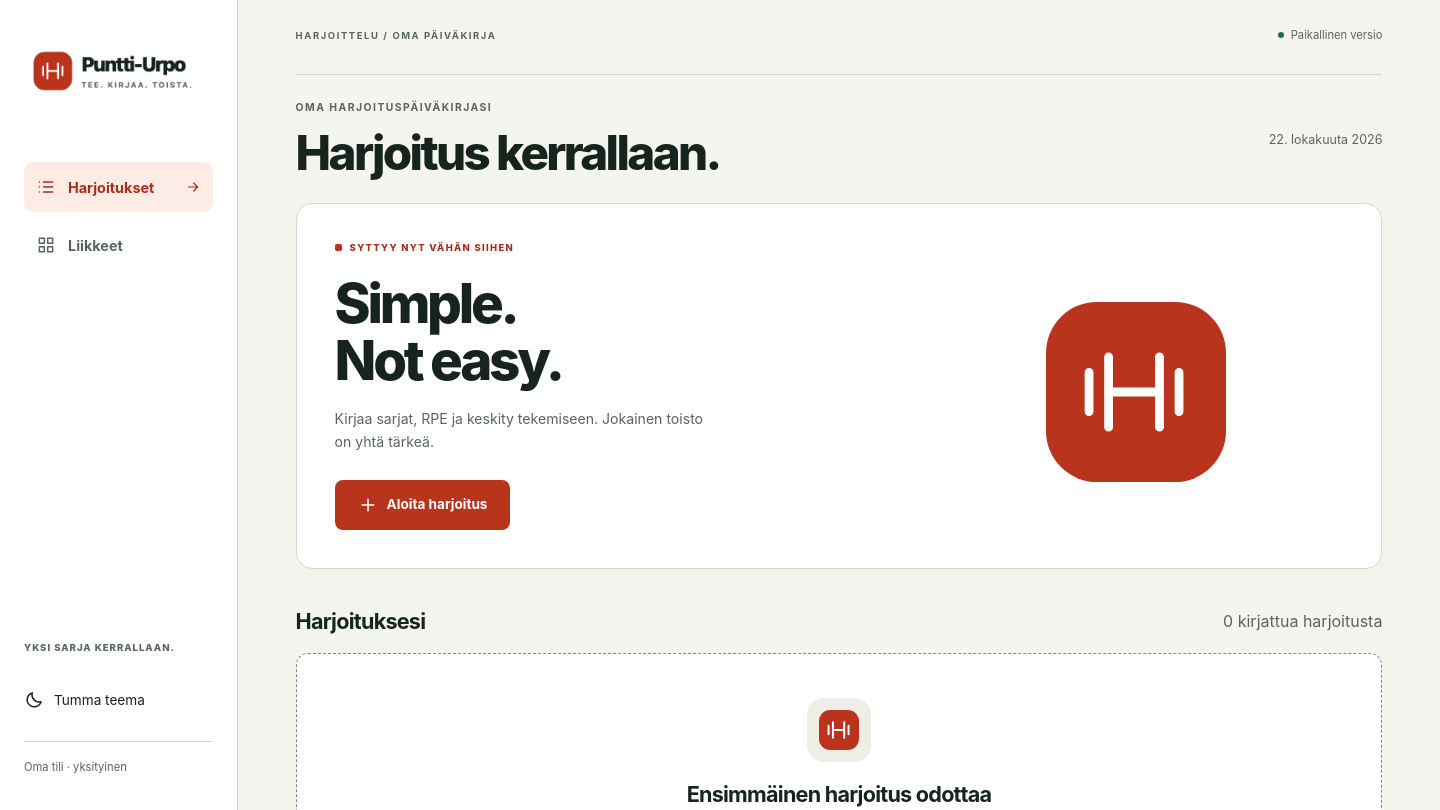
it: starts a named workout without an erroneous discard prompt after saving
Check: the heading "Ensimmäinen harjoitus odottaa" is shown, box [687, 781, 991, 807]
Click the button "Aloita harjoitus". click: click(423, 505)
box: [335, 480, 510, 530]
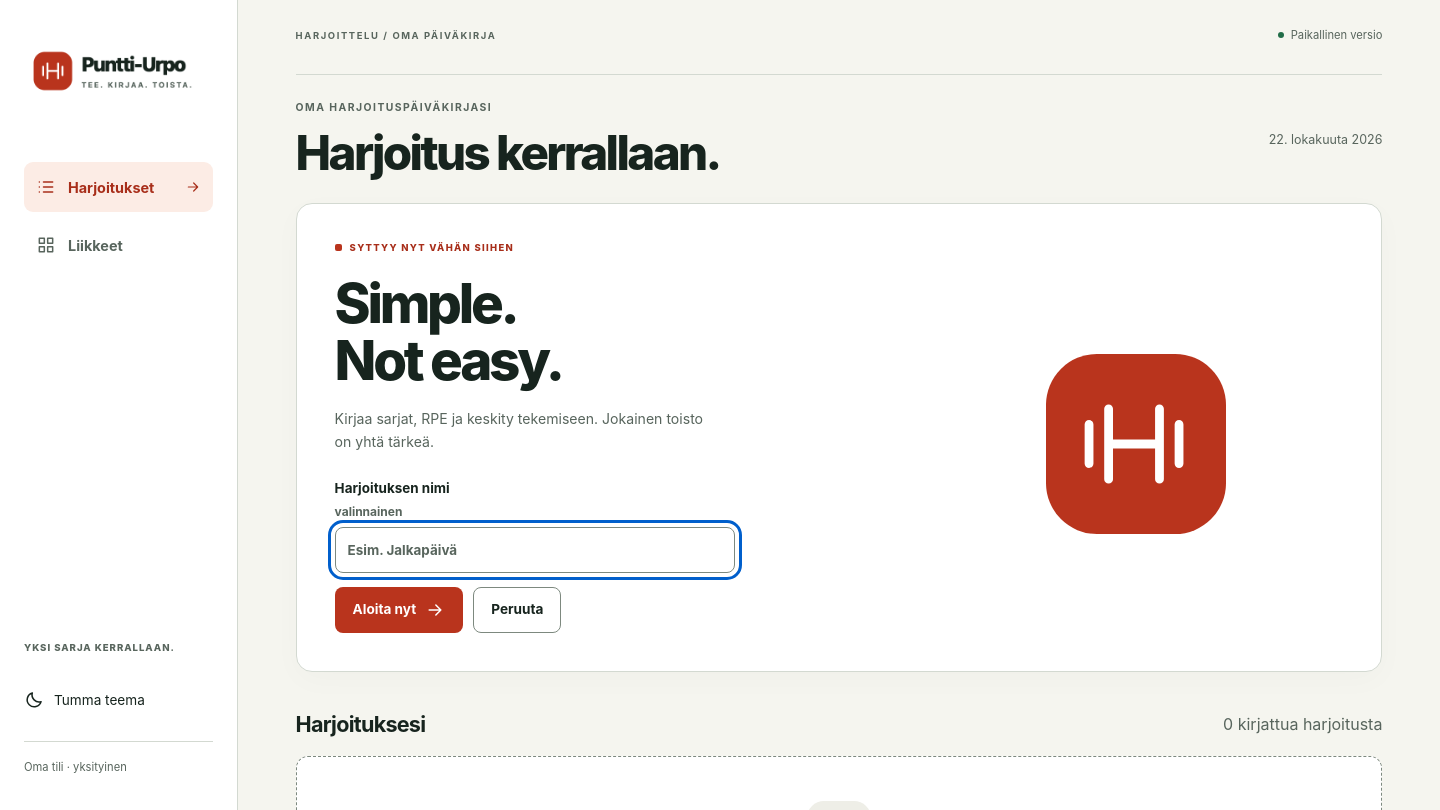
Type "Jalkapäivä" into the field labelled "Harjoituksen nimi valinnainen". click: (535, 550)
box: [335, 527, 735, 573]
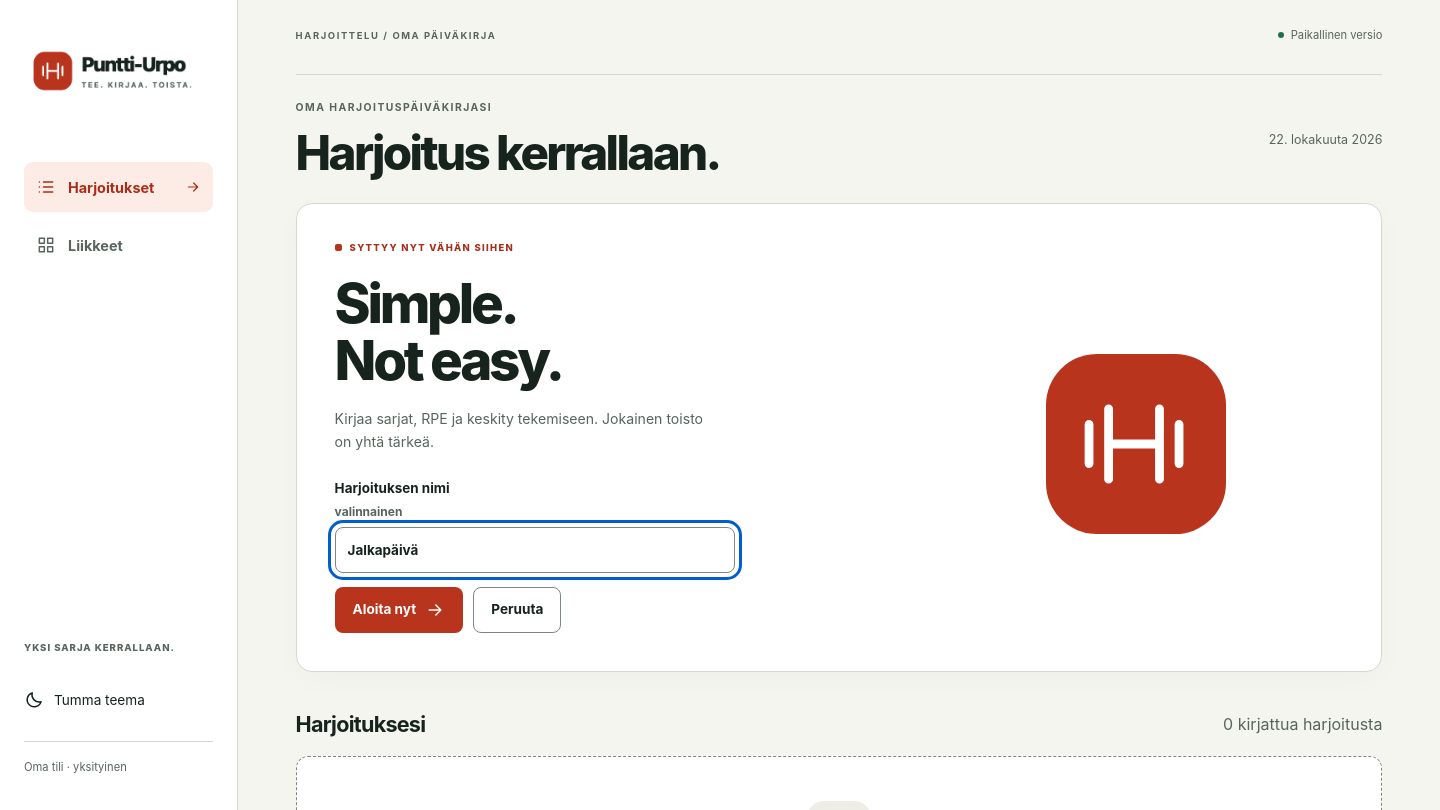
Click the button "Aloita nyt". click: click(399, 610)
box: [335, 587, 463, 633]
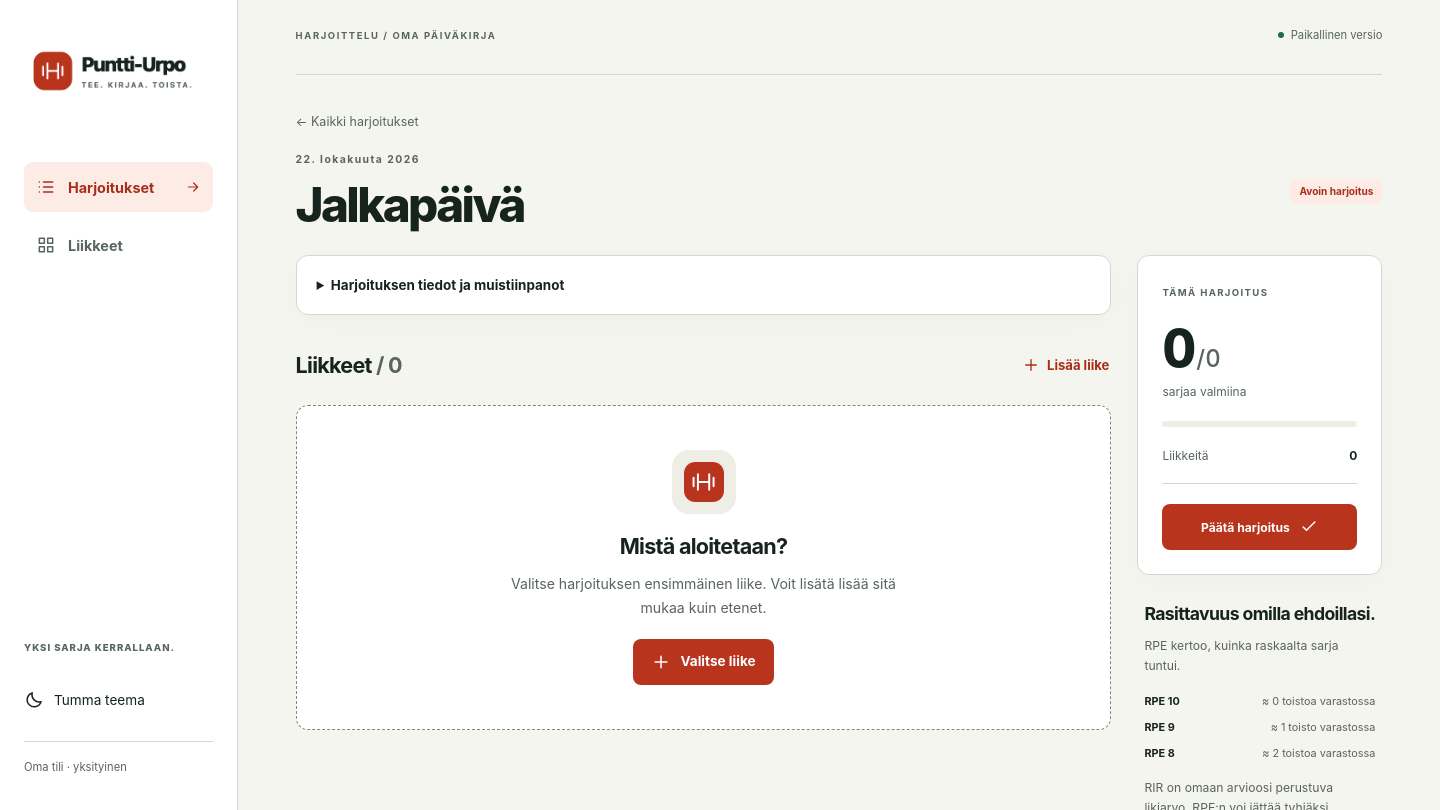
Check: the heading "Jalkapäivä" is shown, box [296, 179, 524, 232]
